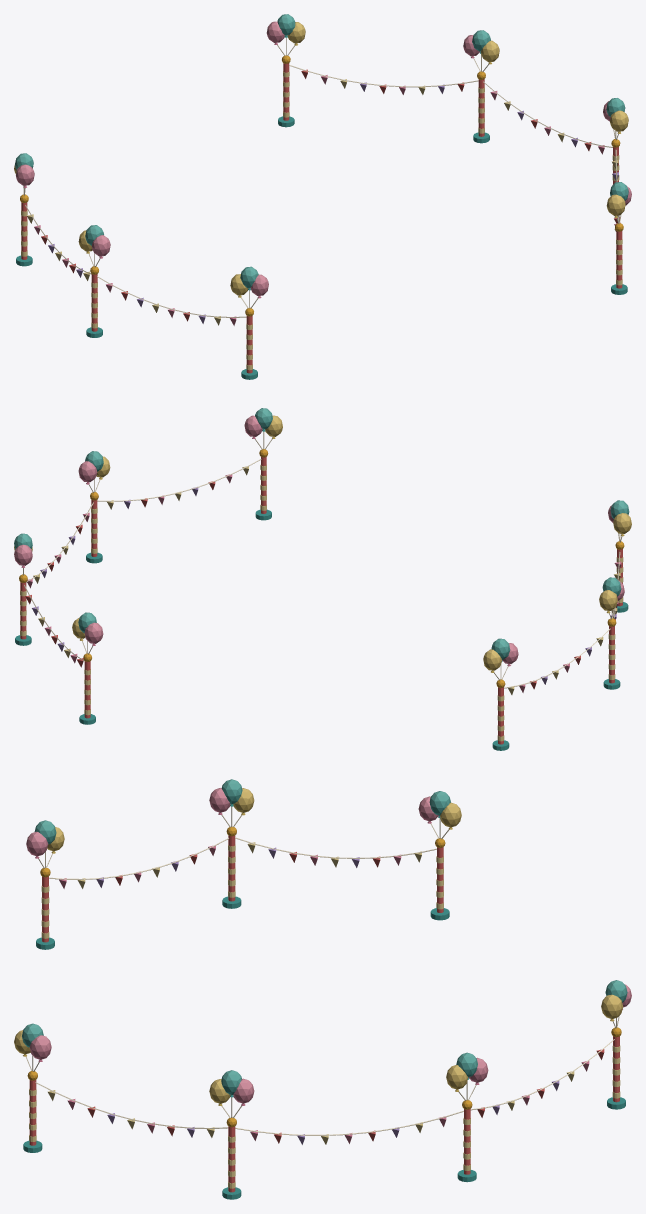
The model's file is goo_jar_props@fairground.fbx.
3 renders of one model, top to bottom at view 1: azimuth 30°, elevation 25°; view 2: azimuth 150°, elevation 25°; view 3: azimuth 270°, elevation 25°, orthographic. The views are drawn at different scales.
Parts seen in each view (by area): view 1: goo_jar_props; view 2: goo_jar_props; view 3: goo_jar_props.
Boxes of the visible parts, x1=… form: goo_jar_props: x1=14, y1=14, x2=631, y2=379; goo_jar_props: x1=14, y1=408, x2=631, y2=750; goo_jar_props: x1=14, y1=779, x2=631, y2=1199.
Bounding box in the file's own units: 67.48 × 13.04 × 58.45.
